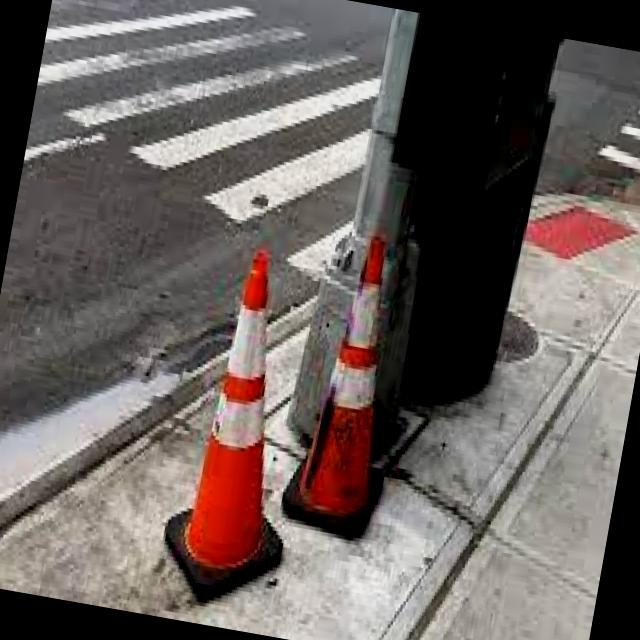cone: (174, 243, 302, 567), (290, 228, 412, 516)
